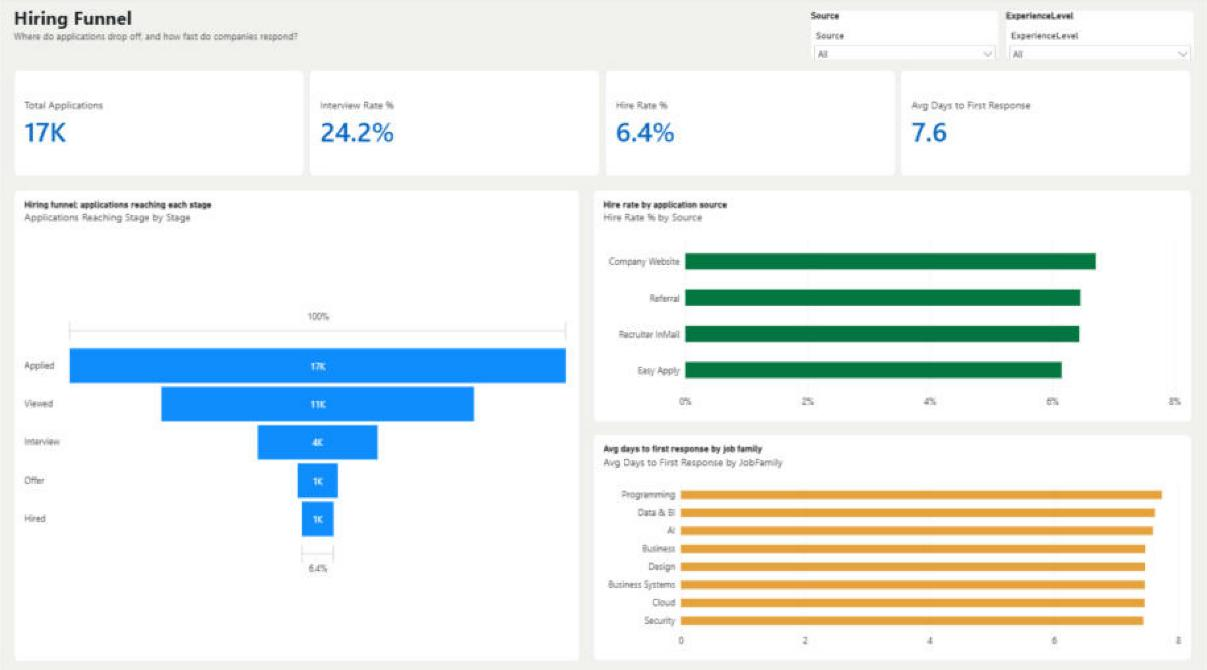

The page's visual inventory and layout, read from the dashboard file:
{"tool":"powerbi","page":{"name":"Hiring Funnel","canvas":[1920,1080],"ordinal":3},"visuals":[{"type":"cardVisual","fields":{"Data":["FactApplications.Total Applications","FactApplications.Interview Rate %","FactApplications.Hire Rate %","FactApplications.Avg Days to First Response"]},"box":[24,120,1872,170],"z":1000},{"type":"funnel","title":"Hiring funnel: applications reaching each stage","fields":{"Category":["DimStage.Stage"],"Y":["FactApplications.Applications Reaching Stage"]},"box":[24,310,900,750],"z":1000},{"type":"clusteredBarChart","title":"Hire rate by application source","fields":{"Category":["FactApplications.Source"],"Y":["FactApplications.Hire Rate %"]},"box":[944,310,952,370],"z":1000},{"type":"clusteredBarChart","title":"Avg days to first response by job family","fields":{"Category":["FactJobPostings.JobFamily"],"Y":["FactApplications.Avg Days to First Response"]},"box":[944,700,952,360],"z":1000},{"type":"textbox","box":[24,16,1872,80],"z":5000},{"type":"slicer","title":"Source","fields":{"Values":["FactApplications.Source"]},"box":[1290,24,300,80],"z":6000},{"type":"slicer","title":"ExperienceLevel","fields":{"Values":["FactJobPostings.ExperienceLevel"]},"box":[1600,24,300,80],"z":6000}]}

Visuals, with their boxes in screenshot pixels (x1, y1, x2, y2), scaled from the page's 1920x1080 canvas onto the 1207x670 screenshot:
cardVisual - FactApplications.Total Applications x FactApplications.Interview Rate %: detection(15, 74, 1192, 180)
"Hiring funnel: applications reaching each stage" funnel: detection(15, 192, 581, 658)
"Hire rate by application source" clusteredBarChart: detection(593, 192, 1192, 422)
"Avg days to first response by job family" clusteredBarChart: detection(593, 434, 1192, 658)
textbox: detection(15, 10, 1192, 60)
"Source" slicer: detection(811, 15, 1000, 65)
"ExperienceLevel" slicer: detection(1006, 15, 1194, 65)
